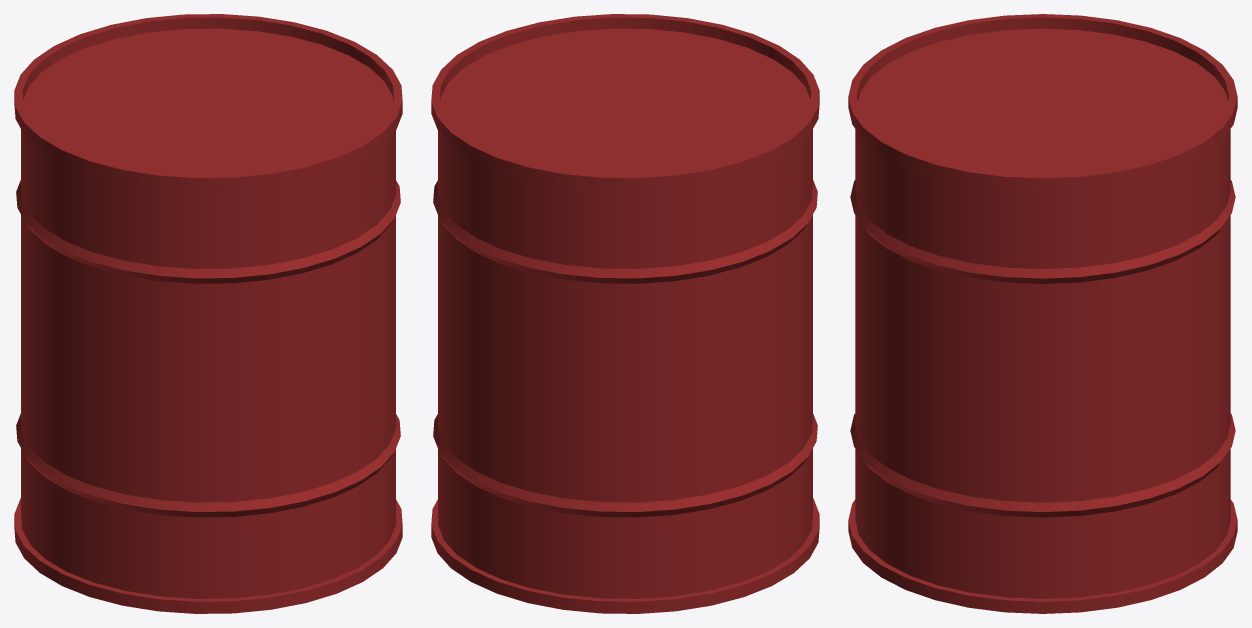
File: PF_Barrel_01-convcol.glb
The picture shows the model from 3 angles, left to right: view 1: azimuth 30°, elevation 25°; view 2: azimuth 150°, elevation 25°; view 3: azimuth 270°, elevation 25°; orthographic projection.
Parts seen in each view (by area): view 1: SM_Barrel_01-convcol; view 2: SM_Barrel_01-convcol; view 3: SM_Barrel_01-convcol.
Part boxes in pixels (<box>): SM_Barrel_01-convcol: <box>14,14,402,613</box>; SM_Barrel_01-convcol: <box>431,14,819,613</box>; SM_Barrel_01-convcol: <box>848,14,1237,613</box>.
Bounding box in the file's own units: 0.8095 × 1 × 0.8095.
